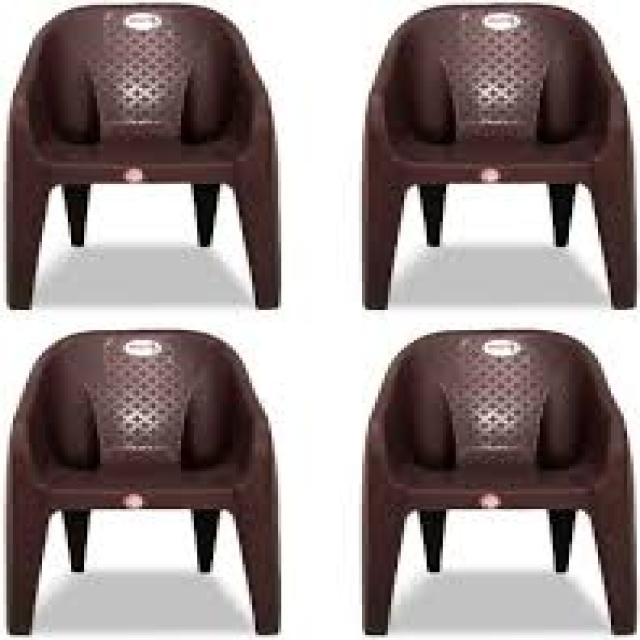chair: (320, 0, 640, 323), (318, 321, 640, 640), (0, 0, 314, 323), (2, 320, 308, 640)
